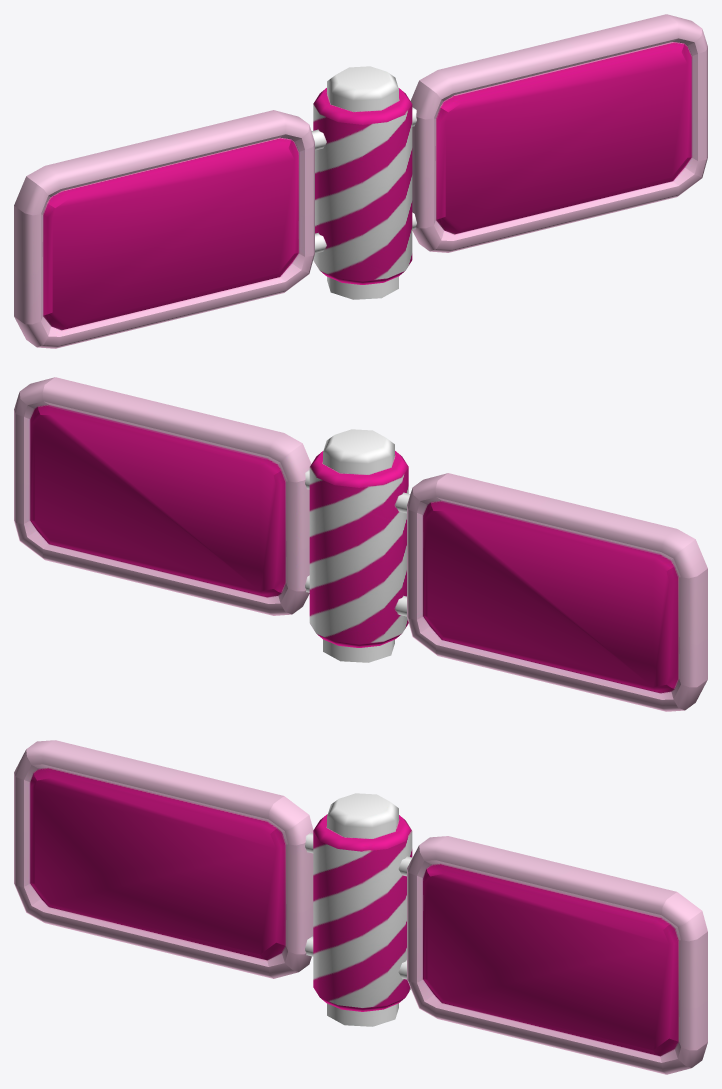
Rendered from OBS0110060.fbx.
The picture shows the model from 3 angles, top to bottom: view 1: azimuth 30°, elevation 25°; view 2: azimuth 150°, elevation 25°; view 3: azimuth 330°, elevation 25°; orthographic projection.
Visible parts, largest first — view 1: smOBS0110060; view 2: smOBS0110060; view 3: smOBS0110060.
Part boxes in pixels (bbox=[...]): smOBS0110060: bbox=[14, 14, 707, 348]; smOBS0110060: bbox=[14, 377, 707, 711]; smOBS0110060: bbox=[14, 740, 707, 1074].
Size of the model in its own units: 549 by 159 by 68.95.
1 material, 1 textured.
